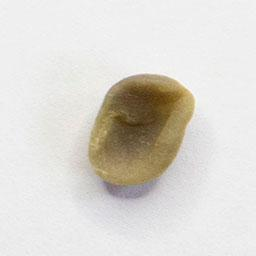peaberry: (83, 70, 199, 189)
